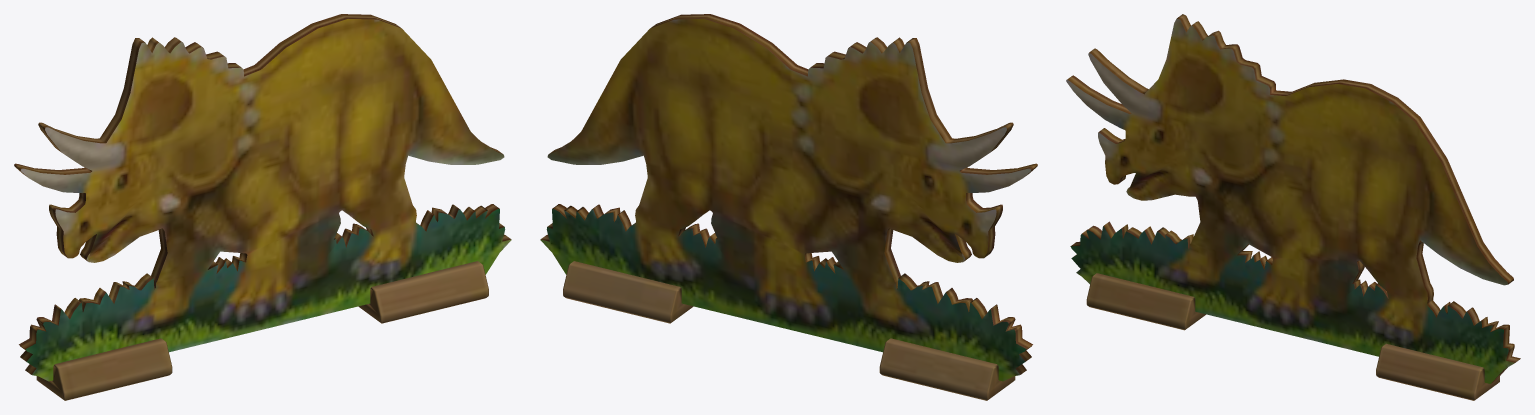
The picture shows the model from 3 angles, left to right: view 1: azimuth 30°, elevation 25°; view 2: azimuth 150°, elevation 25°; view 3: azimuth 330°, elevation 25°; orthographic projection. The views are drawn at different scales.
Size of the model in its own units: 19.57 by 12.58 by 1.94.
Materials: 1 (1 with a texture image).
